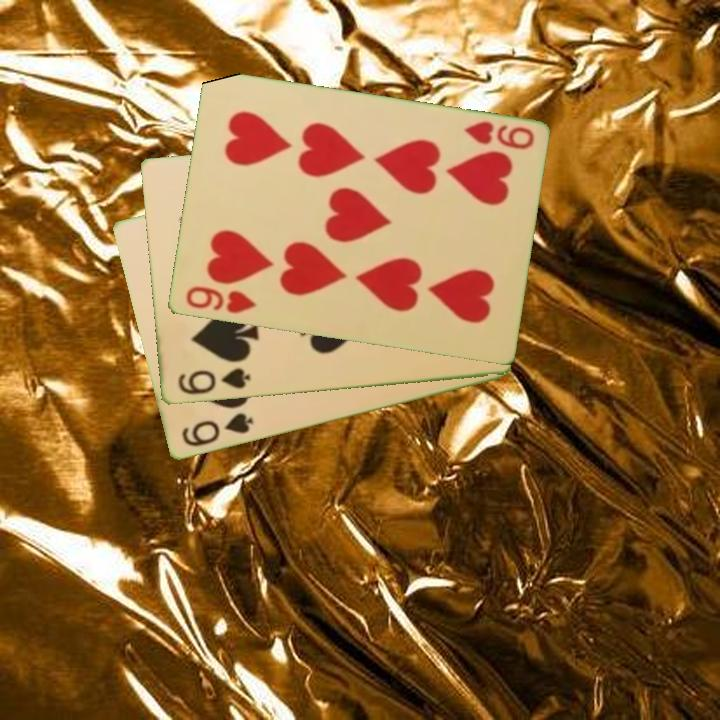6s: (178, 410, 256, 451), (174, 365, 253, 398)
9h: (460, 118, 537, 153), (181, 283, 259, 317)
